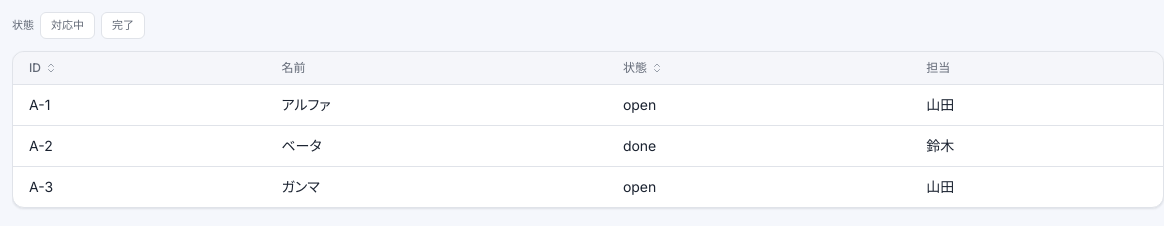
Scenario: DataTable (Phase 3) › sort: 状態 header click で並び替え (done→open)
The width and height of the screenshot is (1164, 226).
Click the button "状態": (643, 68) 623,60 -> 663,76
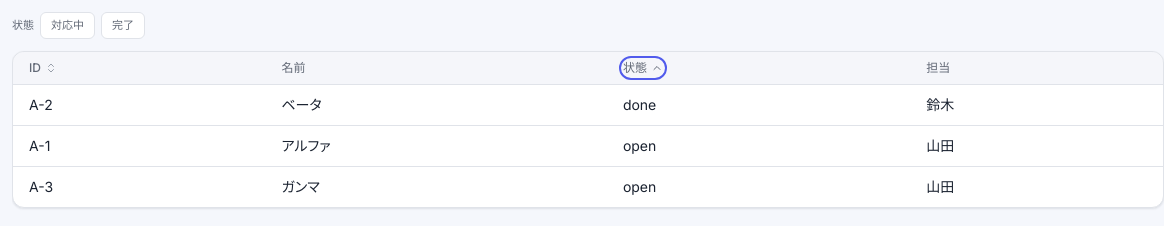
Now the links read "A-2", "A-1", "A-3", in this order, box 29,96 -> 53,112; 29,136 -> 50,154; 29,178 -> 53,194
